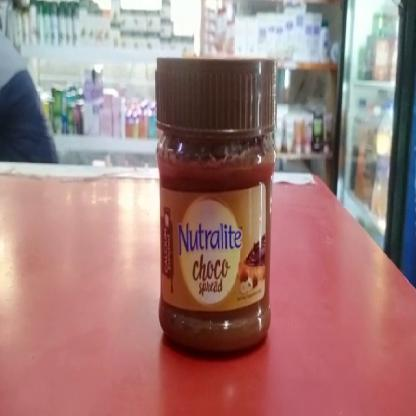Nutralite CHOCO SPREAD CALCIUM 275g: (156, 60, 274, 350)
